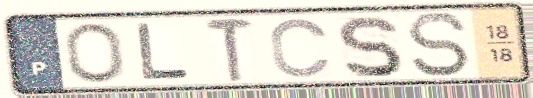C: (267, 16, 335, 80)
L: (134, 21, 193, 83)
O: (62, 20, 129, 85)
S: (402, 10, 473, 79), (333, 13, 406, 80)
T: (201, 17, 258, 84)
